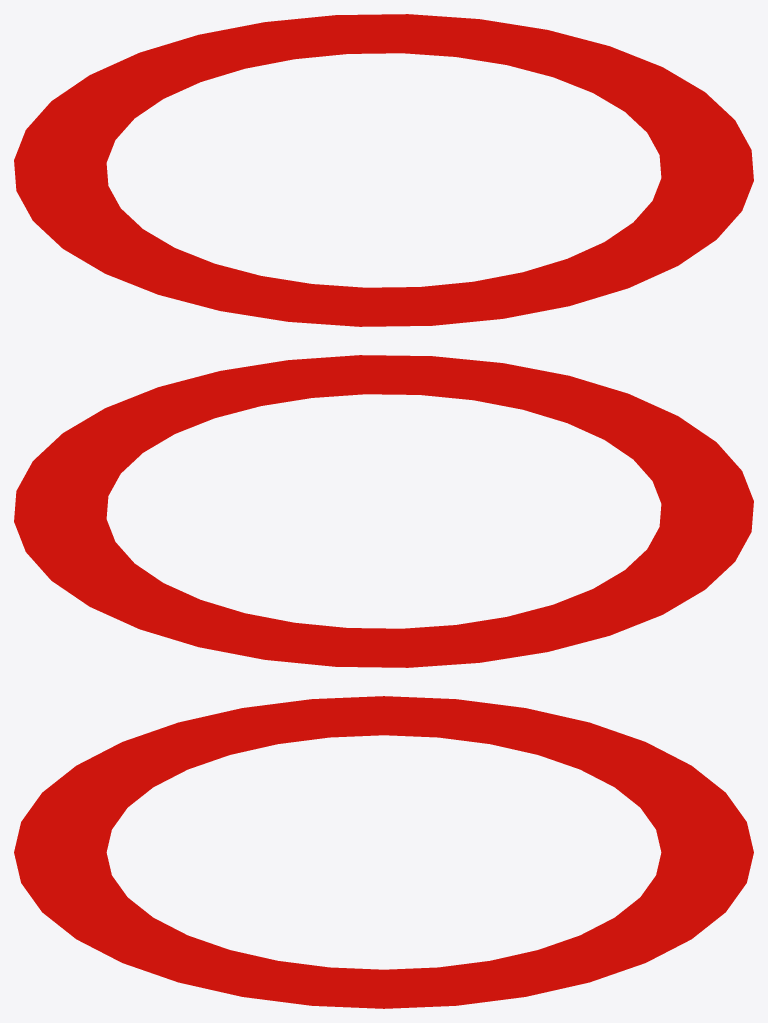
File: ring.fbx
3 renders of one model, top to bottom at view 1: azimuth 30°, elevation 25°; view 2: azimuth 150°, elevation 25°; view 3: azimuth 270°, elevation 25°, orthographic.
Visible parts, largest first — view 1: Cylinder.001; view 2: Cylinder.001; view 3: Cylinder.001.
Part boxes in pixels (left/top/right/bottom): Cylinder.001: left=14, top=14, right=753, bottom=326; Cylinder.001: left=14, top=355, right=753, bottom=667; Cylinder.001: left=14, top=696, right=753, bottom=1008.
Size of the model in its own units: 200 by 3.26e-05 by 200.
